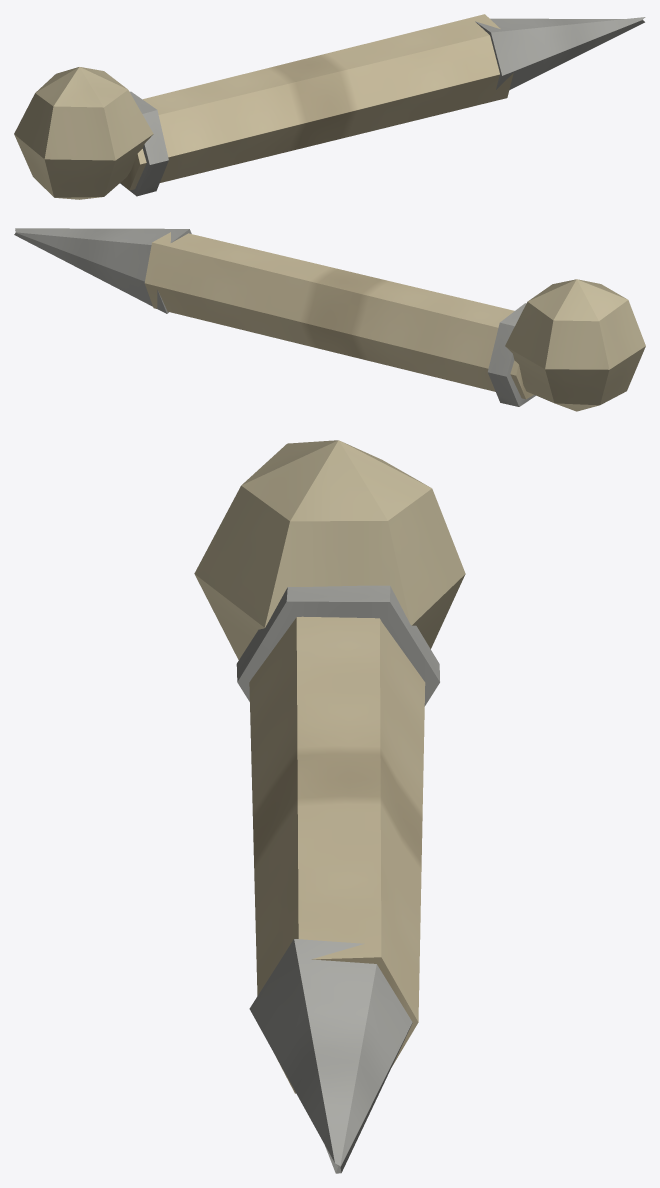
Rendered from needle_pearl.glb.
The picture shows the model from 3 angles, top to bottom: view 1: azimuth 30°, elevation 25°; view 2: azimuth 150°, elevation 25°; view 3: azimuth 270°, elevation 25°; orthographic projection. The views are drawn at different scales.
Visible parts, largest first — view 1: NeedlePearl; view 2: NeedlePearl; view 3: NeedlePearl.
Part boxes in pixels (bbox=[...]): NeedlePearl: bbox=[14, 14, 645, 199]; NeedlePearl: bbox=[14, 228, 645, 411]; NeedlePearl: bbox=[194, 440, 465, 1173].
Bounding box in the file's own units: 0.3491 × 0.0719 × 0.0667.
Materials: 3 (3 with a texture image).
